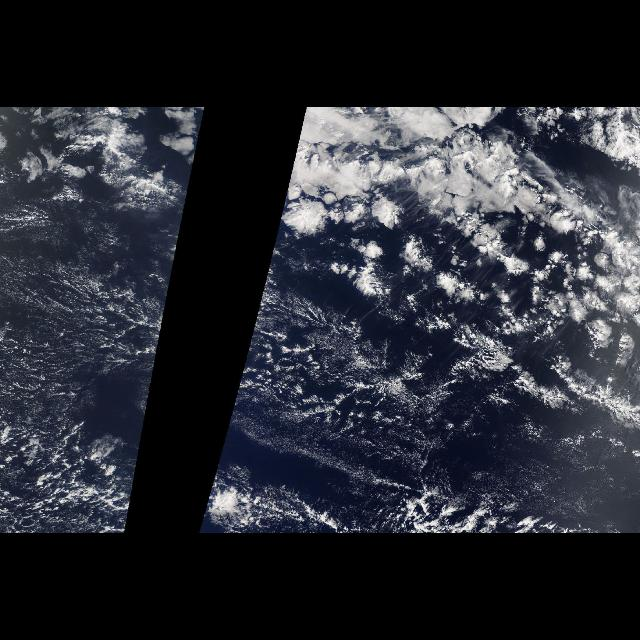Flower: (360, 190, 638, 426)
Gravel: (238, 295, 436, 455)
Sugar: (7, 188, 190, 462), (218, 188, 348, 462)
